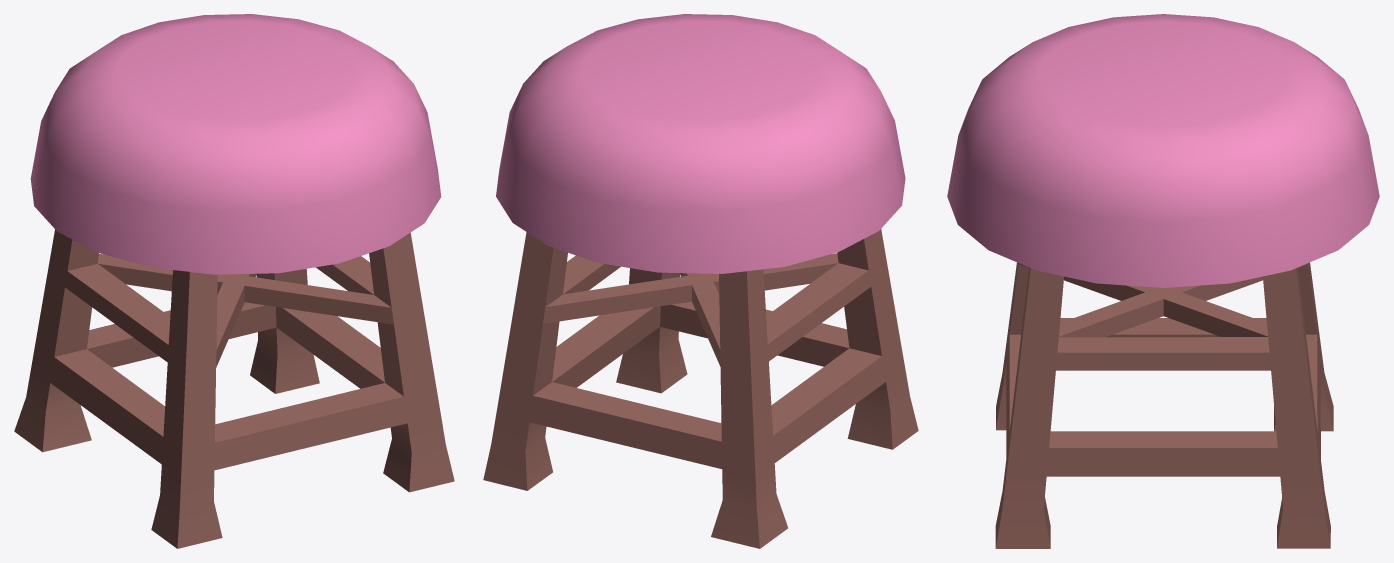
Rendered from Stool.fbx.
The picture shows the model from 3 angles, left to right: view 1: azimuth 30°, elevation 25°; view 2: azimuth 150°, elevation 25°; view 3: azimuth 270°, elevation 25°; orthographic projection. The views are drawn at different scales.
Visible parts, largest first — view 1: pCube5; view 2: pCube5; view 3: pCube5.
Part boxes in pixels (bbox=[...]): pCube5: bbox=[14, 14, 454, 548]; pCube5: bbox=[483, 14, 918, 548]; pCube5: bbox=[947, 14, 1379, 548].
Bounding box in the file's own units: 46.54 × 47.91 × 46.54.
1 material, 1 textured.
